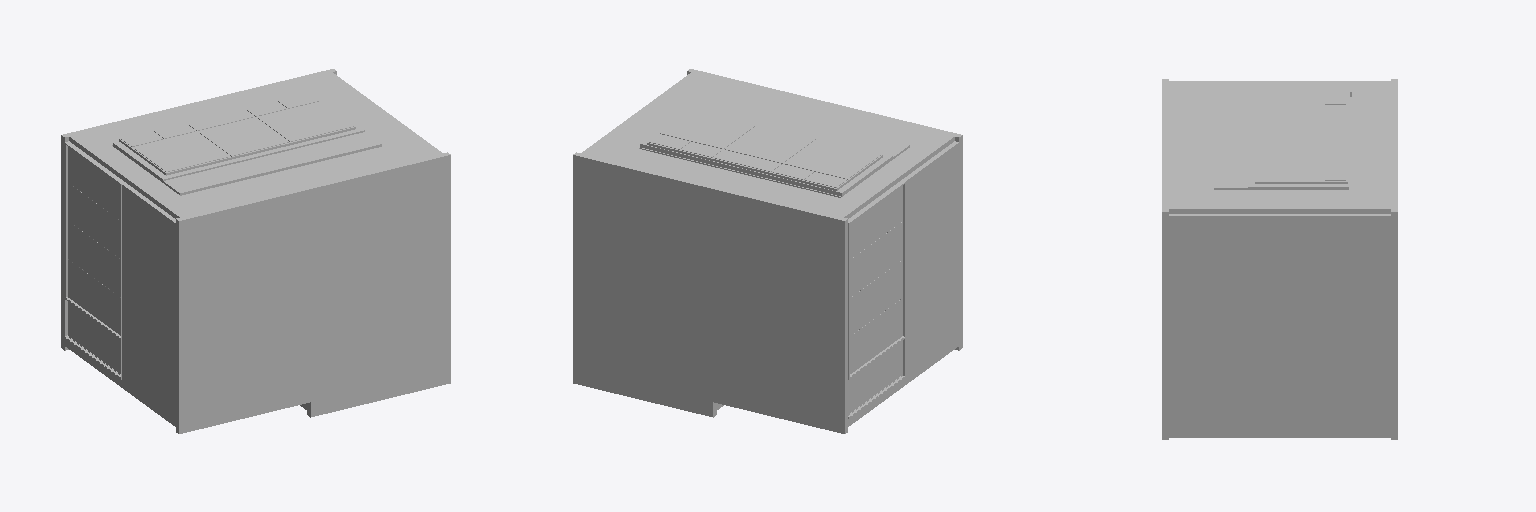
Rendered from YCR eleVR Room 14_Merged2.obj.
3 views of the same model, side by side, from view 1: azimuth 30°, elevation 25°; view 2: azimuth 150°, elevation 25°; view 3: azimuth 270°, elevation 25° (orthographic).
Parts seen in each view (by area): view 1: Object.1; view 2: Object.1; view 3: Object.1.
Part boxes in pixels (left/top/right/bottom): Object.1: left=61, top=69, right=450, bottom=433; Object.1: left=573, top=69, right=962, bottom=433; Object.1: left=1162, top=79, right=1397, bottom=439.
Size of the model in its own units: 688 by 566 by 515.